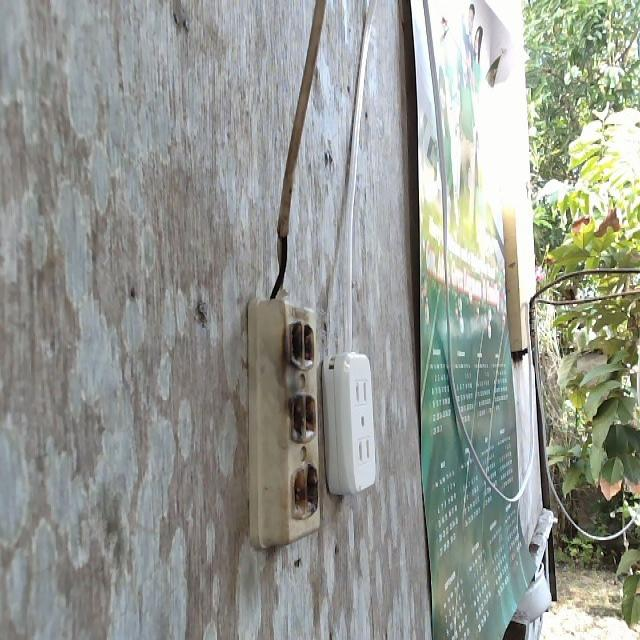-: (278, 312, 317, 527)
